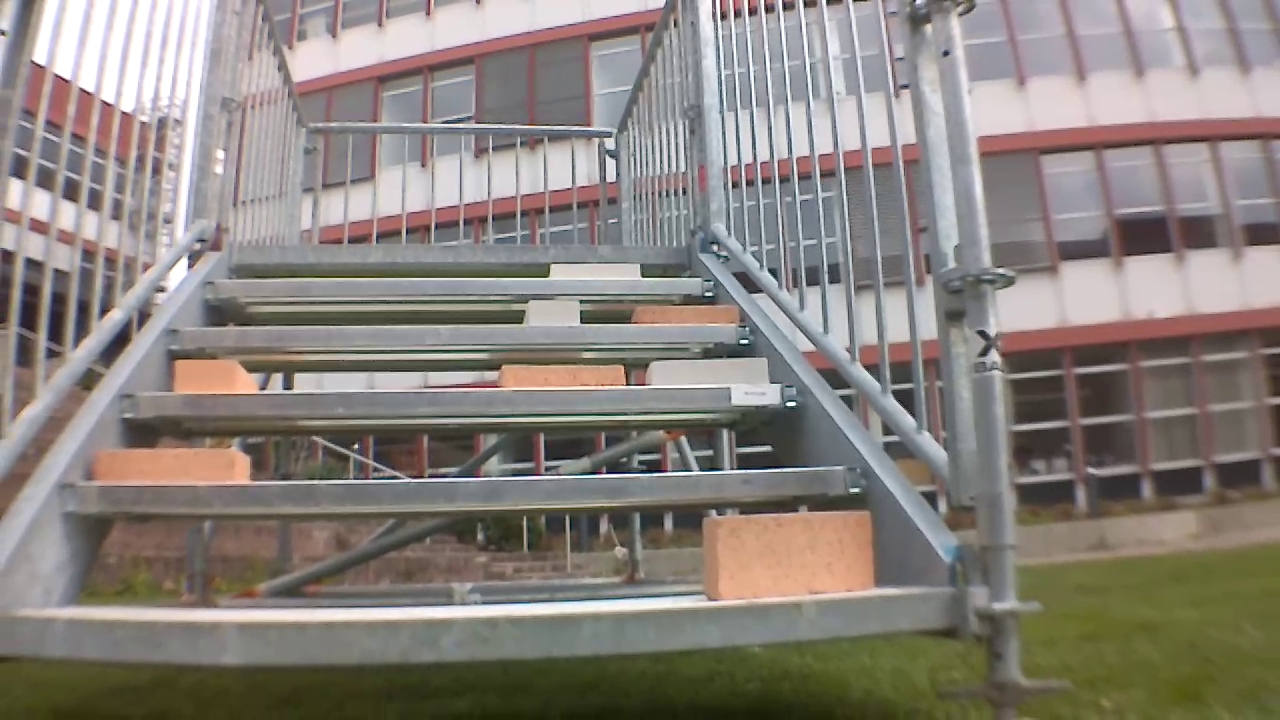brick: (697, 507, 875, 589), (91, 447, 256, 478), (642, 353, 773, 385), (486, 360, 626, 389), (170, 358, 255, 396), (552, 257, 645, 278), (633, 305, 741, 323), (521, 298, 579, 323)
edge: (0, 587, 971, 655), (58, 467, 869, 504), (113, 381, 803, 422), (162, 325, 756, 354), (204, 273, 718, 299), (229, 248, 693, 264)
stairs: (0, 0, 1024, 703)
steps: (0, 244, 1023, 653)
